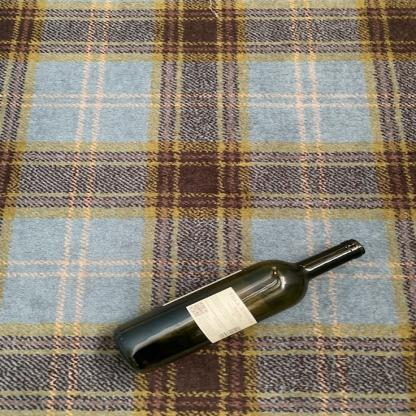trash: (106, 237, 371, 374)
